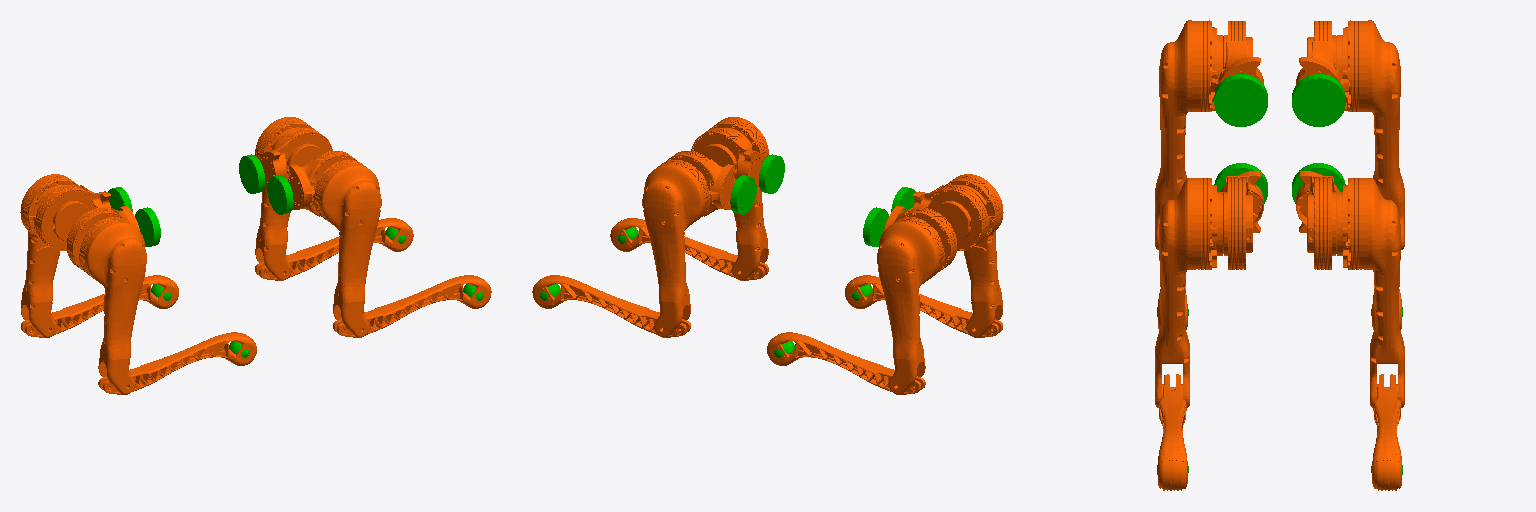
--- What the picture shows (computed from the rendered views, not written in the file) ---
The picture shows the robot from 3 angles, left to right: view 1: azimuth 30°, elevation 25°; view 2: azimuth 150°, elevation 25°; view 3: azimuth 270°, elevation 25°; orthographic projection.
Model b1_description with 36 links and 35 joints (12 revolute, 23 fixed), rooted at base, posed joints at zero except 4 at the middle of their limits (FR_calf_joint = -1.6, FL_calf_joint = -1.6, RR_calf_joint = -1.6, RL_calf_joint = -1.6).
Links seen in each view (by area): view 1: FR_thigh, RR_thigh, RL_thigh, FL_thigh, FR_calf, RR_calf, RL_hip, FL_hip, FL_calf, RL_calf, FR_hip, RR_hip (+3 smaller); view 2: FL_thigh, RL_thigh, RR_thigh, FR_thigh, FL_calf, RL_calf, RR_hip, FR_hip, FR_calf, RR_calf, FL_hip, RL_hip (+3 smaller); view 3: FR_thigh, FL_thigh, RL_thigh, RR_thigh, FR_hip, FL_hip, FR_calf, FL_calf, RR_hip_rotor, RL_hip_rotor, RR_hip, RL_hip (+2 smaller).
Boxes of the visible links, x1,y1,x2,y2 form: FR_thigh: (313, 160, 381, 337); RR_thigh: (79, 217, 146, 394); RL_thigh: (20, 174, 78, 337); FL_thigh: (255, 117, 314, 280); FR_calf: (333, 275, 491, 337); RR_calf: (98, 332, 256, 394); RL_hip: (35, 185, 110, 250); FL_hip: (260, 128, 332, 187); FL_calf: (255, 218, 413, 280); RL_calf: (21, 275, 178, 337); FR_hip: (288, 151, 356, 216); RR_hip: (67, 206, 139, 271); FL_thigh: (642, 160, 710, 337); RL_thigh: (877, 217, 944, 394); RR_thigh: (945, 174, 1003, 337); FR_thigh: (709, 117, 768, 280); FL_calf: (532, 275, 690, 337); RL_calf: (767, 332, 925, 394); RR_hip: (913, 185, 988, 250); FR_hip: (691, 128, 763, 187); FR_calf: (610, 218, 768, 280); RR_calf: (845, 275, 1002, 337); FL_hip: (667, 151, 735, 216); RL_hip: (884, 206, 956, 271); FR_thigh: (1155, 178, 1222, 407); FL_thigh: (1337, 178, 1404, 407); RL_thigh: (1337, 20, 1404, 249); RR_thigh: (1155, 20, 1222, 249); FR_hip: (1220, 171, 1263, 269); FL_hip: (1296, 171, 1339, 269); FR_calf: (1158, 374, 1187, 490); FL_calf: (1372, 374, 1401, 490); RR_hip_rotor: (1214, 74, 1267, 126); RL_hip_rotor: (1292, 74, 1345, 126); RR_hip: (1211, 21, 1263, 90); RL_hip: (1296, 21, 1348, 90).
Size in the robot's own frame: 1.17 by 0.4615 by 0.465 metres.
Meshes: 5 distinct files referenced, 12 mesh visuals loaded (4 binary STL); not drawn: 1 (reference not matched to a file when rendering).

The robot description file, URDF, robot "b1_description":
<?xml version="1.0" ?>
<!-- =================================================================================== -->
<!-- |    This document was autogenerated by xacro from robot.xacro                    | -->
<!-- |    EDITING THIS FILE BY HAND IS NOT RECOMMENDED                                 | -->
<!-- =================================================================================== -->
<robot name="b1_description">
  <material name="black">
    <color rgba="0.0 0.0 0.0 1.0"/>
  </material>
  <material name="blue">
    <color rgba="0.0 0.0 0.8 1.0"/>
  </material>
  <material name="green">
    <color rgba="0.0 0.8 0.0 1.0"/>
  </material>
  <material name="grey">
    <color rgba="0.2 0.2 0.2 1.0"/>
  </material>
  <material name="silver">
    <color rgba="0.9137254901960784 0.9137254901960784 0.8470588235294118 1.0"/>
  </material>
  <material name="orange">
    <color rgba="1.0 0.4235294117647059 0.0392156862745098 1.0"/>
  </material>
  <material name="brown">
    <color rgba="0.8705882352941177 0.8117647058823529 0.7647058823529411 1.0"/>
  </material>
  <material name="red">
    <color rgba="0.8 0.0 0.0 1.0"/>
  </material>
  <material name="white">
    <color rgba="1.0 1.0 1.0 1.0"/>
  </material>
  <!-- ros_control plugin -->
  <gazebo>
    <plugin filename="libgazebo_ros_control.so" name="gazebo_ros_control">
      <robotNamespace>/aliengo_gazebo</robotNamespace>
      <robotSimType>gazebo_ros_control/DefaultRobotHWSim</robotSimType>
    </plugin>
  </gazebo>
  <!-- Show the trajectory of trunk center. -->
  <gazebo>
    <plugin filename="libLinkPlot3DPlugin.so" name="3dplot">
      <frequency>10</frequency>
      <plot>
        <link>base</link>
        <pose>0 0 0 0 0 0</pose>
        <material>Gazebo/Yellow</material>
      </plot>
    </plugin>
  </gazebo>
  <!-- Show the trajectory of foot. You can add another trajectory about another foot. -->
  <!-- <gazebo>
        <plugin name="3dplot" filename="libLinkPlot3DPlugin.so">
            <frequency>100</frequency>
            <plot>
                <link>FL_foot</link>
                <pose>0 0 0 0 0 0</pose>
                <material>Gazebo/Green</material>
            </plot>
        </plugin>
    </gazebo> -->
  <gazebo>
    <plugin filename="libgazebo_ros_force.so" name="gazebo_ros_force">
      <bodyName>trunk</bodyName>
      <topicName>/apply_force/trunk</topicName>
    </plugin>
  </gazebo>
  <gazebo reference="imu_link">
    <gravity>true</gravity>
    <sensor name="imu_sensor" type="imu">
      <always_on>true</always_on>
      <update_rate>1000</update_rate>
      <visualize>true</visualize>
      <topic>__default_topic__</topic>
      <plugin filename="libgazebo_ros_imu_sensor.so" name="imu_plugin">
        <topicName>trunk_imu</topicName>
        <bodyName>imu_link</bodyName>
        <updateRateHZ>1000.0</updateRateHZ>
        <gaussianNoise>0.0</gaussianNoise>
        <xyzOffset>0 0 0</xyzOffset>
        <rpyOffset>0 0 0</rpyOffset>
        <frameName>imu_link</frameName>
      </plugin>
      <pose>0 0 0 0 0 0</pose>
    </sensor>
  </gazebo>
  <!-- Foot contacts. -->
  <gazebo reference="FR_calf">
    <sensor name="FR_foot_contact" type="contact">
      <update_rate>100</update_rate>
      <plugin filename="libunitreeFootContactPlugin.so" name="contactPlugin"/>
      <contact>
        <collision>FR_calf_fixed_joint_lump__FR_foot_collision_1</collision>
      </contact>
    </sensor>
  </gazebo>
  <gazebo reference="FL_calf">
    <sensor name="FL_foot_contact" type="contact">
      <update_rate>100</update_rate>
      <plugin filename="libunitreeFootContactPlugin.so" name="contactPlugin"/>
      <contact>
        <collision>FL_calf_fixed_joint_lump__FL_foot_collision_1</collision>
      </contact>
    </sensor>
  </gazebo>
  <gazebo reference="RR_calf">
    <sensor name="RR_foot_contact" type="contact">
      <update_rate>100</update_rate>
      <plugin filename="libunitreeFootContactPlugin.so" name="contactPlugin"/>
      <contact>
        <collision>RR_calf_fixed_joint_lump__RR_foot_collision_1</collision>
      </contact>
    </sensor>
  </gazebo>
  <gazebo reference="RL_calf">
    <sensor name="RL_foot_contact" type="contact">
      <update_rate>100</update_rate>
      <plugin filename="libunitreeFootContactPlugin.so" name="contactPlugin"/>
      <contact>
        <collision>RL_calf_fixed_joint_lump__RL_foot_collision_1</collision>
      </contact>
    </sensor>
  </gazebo>
  <!-- Visualization of Foot contacts. -->
  <gazebo reference="FR_foot">
    <visual>
      <plugin filename="libunitreeDrawForcePlugin.so" name="drawForcePlugin">
        <topicName>FR_foot_contact</topicName>
      </plugin>
    </visual>
  </gazebo>
  <gazebo reference="FL_foot">
    <visual>
      <plugin filename="libunitreeDrawForcePlugin.so" name="drawForcePlugin">
        <topicName>FL_foot_contact</topicName>
      </plugin>
    </visual>
  </gazebo>
  <gazebo reference="RR_foot">
    <visual>
      <plugin filename="libunitreeDrawForcePlugin.so" name="drawForcePlugin">
        <topicName>RR_foot_contact</topicName>
      </plugin>
    </visual>
  </gazebo>
  <gazebo reference="RL_foot">
    <visual>
      <plugin filename="libunitreeDrawForcePlugin.so" name="drawForcePlugin">
        <topicName>RL_foot_contact</topicName>
      </plugin>
    </visual>
  </gazebo>
  <gazebo reference="base">
    <material>Gazebo/Green</material>
    <turnGravityOff>false</turnGravityOff>
  </gazebo>
  <gazebo reference="trunk">
    <mu1>0.2</mu1>
    <mu2>0.2</mu2>
    <kp value="1000000.0"/>
    <kd value="1.0"/>
  </gazebo>
  <gazebo reference="stick_link">
    <mu1>0.2</mu1>
    <mu2>0.2</mu2>
    <material>Gazebo/White</material>
  </gazebo>
  <gazebo reference="imu_link">
    <mu1>0.2</mu1>
    <mu2>0.2</mu2>
    <material>Gazebo/Red</material>
  </gazebo>
  <!-- FL leg -->
  <gazebo reference="FL_hip">
    <mu1>0.2</mu1>
    <mu2>0.2</mu2>
    <material>Gazebo/DarkGrey</material>
  </gazebo>
  <gazebo reference="FL_thigh">
    <mu1>0.2</mu1>
    <mu2>0.2</mu2>
    <self_collide>1</self_collide>
    <material>Gazebo/DarkGrey</material>
    <kp value="1000000.0"/>
    <kd value="1.0"/>
  </gazebo>
  <gazebo reference="FL_calf">
    <mu1>0.2</mu1>
    <mu2>0.2</mu2>
    <self_collide>1</self_collide>
  </gazebo>
  <gazebo reference="FL_foot">
    <mu1>0.6</mu1>
    <mu2>0.6</mu2>
    <self_collide>1</self_collide>
    <material>Gazebo/DarkGrey</material>
    <kp value="1000000.0"/>
    <kd value="1.0"/>
  </gazebo>
  <!-- FR leg -->
  <gazebo reference="FR_hip">
    <mu1>0.2</mu1>
    <mu2>0.2</mu2>
    <material>Gazebo/DarkGrey</material>
  </gazebo>
  <gazebo reference="FR_thigh">
    <mu1>0.2</mu1>
    <mu2>0.2</mu2>
    <self_collide>1</self_collide>
    <material>Gazebo/DarkGrey</material>
    <kp value="1000000.0"/>
    <kd value="1.0"/>
  </gazebo>
  <gazebo reference="FR_calf">
    <mu1>0.2</mu1>
    <mu2>0.2</mu2>
    <self_collide>1</self_collide>
  </gazebo>
  <gazebo reference="FR_foot">
    <mu1>0.6</mu1>
    <mu2>0.6</mu2>
    <self_collide>1</self_collide>
    <material>Gazebo/DarkGrey</material>
    <kp value="1000000.0"/>
    <kd value="1.0"/>
  </gazebo>
  <!-- RL leg -->
  <gazebo reference="RL_hip">
    <mu1>0.2</mu1>
    <mu2>0.2</mu2>
    <material>Gazebo/DarkGrey</material>
  </gazebo>
  <gazebo reference="RL_thigh">
    <mu1>0.2</mu1>
    <mu2>0.2</mu2>
    <self_collide>1</self_collide>
    <material>Gazebo/DarkGrey</material>
    <kp value="1000000.0"/>
    <kd value="1.0"/>
  </gazebo>
  <gazebo reference="RL_calf">
    <mu1>0.2</mu1>
    <mu2>0.2</mu2>
    <self_collide>1</self_collide>
  </gazebo>
  <gazebo reference="RL_foot">
    <mu1>0.6</mu1>
    <mu2>0.6</mu2>
    <self_collide>1</self_collide>
    <material>Gazebo/DarkGrey</material>
    <kp value="1000000.0"/>
    <kd value="1.0"/>
  </gazebo>
  <!-- RR leg -->
  <gazebo reference="RR_hip">
    <mu1>0.2</mu1>
    <mu2>0.2</mu2>
    <material>Gazebo/DarkGrey</material>
  </gazebo>
  <gazebo reference="RR_thigh">
    <mu1>0.2</mu1>
    <mu2>0.2</mu2>
    <self_collide>1</self_collide>
    <material>Gazebo/DarkGrey</material>
    <kp value="1000000.0"/>
    <kd value="1.0"/>
  </gazebo>
  <gazebo reference="RR_calf">
    <mu1>0.2</mu1>
    <mu2>0.2</mu2>
    <self_collide>1</self_collide>
  </gazebo>
  <gazebo reference="RR_foot">
    <mu1>0.6</mu1>
    <mu2>0.6</mu2>
    <self_collide>1</self_collide>
    <material>Gazebo/DarkGrey</material>
    <kp value="1000000.0"/>
    <kd value="1.0"/>
  </gazebo>
  <!-- Rotor related joint and link is only for demonstrate location. -->
  <!-- Actually, the rotor will rotate and the joint is not fixed. Reduction ratio should be considered. -->
  <!-- Debug mode will hung up the robot, use "true" or "false" to switch it. -->
  <!-- <xacro:if value="$(arg DEBUG)">
        <link name="world"/>
        <joint name="base_static_joint" type="fixed">
            <origin rpy="0 0 0" xyz="0 0 0"/>
            <parent link="world"/>
            <child link="base"/>
        </joint>
    </xacro:if>  -->
  <link name="base">
    <visual>
      <origin rpy="0 0 0" xyz="0 0 0"/>
      <geometry>
        <box size="0.001 0.001 0.001"/>
      </geometry>
    </visual>
  </link>
  <joint name="floating_base" type="fixed">
    <origin rpy="0 0 0" xyz="0 0 0"/>
    <parent link="base"/>
    <child link="trunk"/>
  </joint>
  <link name="trunk">
    <visual>
      <origin rpy="0 0 0" xyz="0 0 0"/>
      <geometry>
        <mesh filename="package://B1/meshes/trunkb.stl" scale="1 1 1"/>
      </geometry>
      <material name="orange"/>
    </visual>
    <collision>
      <origin rpy="0 0 0" xyz="0 0 0"/>
      <geometry>
        <mesh filename="package://B1/meshes/trunkb.stl" scale="1 1 1"/>
      </geometry>
    </collision>
    <inertial>
      <origin rpy="0 0 0" xyz="0.008987 0.002243 0.003013"/>
      <mass value="29.45"/>
      <inertia ixx="0.183142146" ixy="-0.001379002" ixz="-0.027956055" iyy="0.756327752" iyz="0.000193774" izz="0.783777558"/>
    </inertial>
  </link>
  <joint name="imu_joint" type="fixed">
    <parent link="trunk"/>
    <child link="imu_link"/>
    <origin rpy="0 0 0" xyz="0 0 0"/>
  </joint>
  <link name="imu_link">
    <inertial>
      <mass value="0.001"/>
      <origin rpy="0 0 0" xyz="0 0 0"/>
      <inertia ixx="0.0001" ixy="0" ixz="0" iyy="0.000001" iyz="0" izz="0.0001"/>
    </inertial>
    <visual>
      <origin rpy="0 0 0" xyz="0 0 0"/>
      <geometry>
        <box size="0.001 0.001 0.001"/>
      </geometry>
      <material name="red"/>
    </visual>
    <collision>
      <origin rpy="0 0 0" xyz="0 0 0"/>
      <geometry>
        <box size=".001 .001 .001"/>
      </geometry>
    </collision>
  </link>

    <joint name="left_side_camera_joint" type="fixed">
	    <parent link="trunk"/>
	    <child link="left_side_camera_link"/>
	    <origin rpy="-0.331612 0 0" xyz="-0.1086 0.1371 -0.03077"/>
    </joint>

    <link name="left_side_camera_link">
        <inertial>
            <mass value="0.001"/>
            <origin rpy="0 0 0" xyz="0 0 0"/>
            <inertia ixx="0.0001" ixy="0" ixz="0" iyy="0.0001" iyz="0" izz="0.0001"/>
        </inertial>
    </link>

	    
    <joint name="right_side_camera_joint" type="fixed">
	    <parent link="trunk"/>
	    <child link="right_side_camera_link"/>
	    <origin rpy="0.331612 0 0" xyz="-0.10190 -0.1371 -0.03077"/>
    </joint>

    <link name="right_side_camera_link">
        <inertial>
            <mass value="0.001"/>
            <origin rpy="0 0 0" xyz="0 0 0"/>
            <inertia ixx="0.0001" ixy="0" ixz="0" iyy="0.0001" iyz="0" izz="0.0001"/>
        </inertial>
    </link>
-
    <joint name="head_camera_1_joint" type="fixed">
	    <parent link="trunk"/>
	    <child link="head_camera_1_link"/>
	    <origin rpy="0 0 0" xyz="0.48883 0 0.0255"/>
    </joint>

    <link name="head_camera_1_link">
        <inertial>
            <mass value="0.001"/>
            <origin rpy="0 0 0" xyz="0 0 0"/>
            <inertia ixx="0.0001" ixy="0" ixz="0" iyy="0.0001" iyz="0" izz="0.0001"/>
        </inertial>
    </link>

    <joint name="head_camera_2_joint" type="fixed">
	    <parent link="trunk"/>
	    <child link="head_camera_2_link"/>
	    <origin rpy="0 0 0" xyz="0.45430 0 -0.081"/>
    </joint>

    <link name="head_camera_2_link">
        <inertial>
            <mass value="0.001"/>
            <origin rpy="0 0 0" xyz="0 0 0"/>
            <inertia ixx="0.0001" ixy="0" ixz="0" iyy="0.0001" iyz="0" izz="0.0001"/>
        </inertial>
    </link>

    <joint name="tail_camera_joint" type="fixed">
	    <parent link="trunk"/>
	    <child link="tail_camera_link"/>
	    <origin rpy="0 0 0" xyz="-0.459 0 -0.081"/>
    </joint>

    <link name="tail_camera_link">
        <inertial>
            <mass value="0.001"/>
            <origin rpy="0 0 0" xyz="0 0 0"/>
            <inertia ixx="0.0001" ixy="0" ixz="0" iyy="0.0001" iyz="0" izz="0.0001"/>
        </inertial>
    </link>

  <joint name="FR_hip_joint" type="revolute">
    <origin rpy="0 0 0" xyz="0.3455 -0.072 0"/>
    <parent link="trunk"/>
    <child link="FR_hip"/>
    <axis xyz="1 0 0"/>
    <dynamics damping="0" friction="0"/>
    <limit effort="91.0035" lower="-0.75" upper="0.75" velocity="19.69"/>
  </joint>
  <joint name="FR_hip_rotor_joint" type="fixed">
    <origin rpy="0 0 0" xyz="0.1955 -0.072 0"/>
    <parent link="trunk"/>
    <child link="FR_hip_rotor"/>
  </joint>
  <link name="FR_hip">
    <visual>
      <origin rpy="3.141592653589793 0 0" xyz="0 0 0"/>
      <geometry>
        <mesh filename="package://B1/meshes/hipb.stl" scale="1 1 1"/>
      </geometry>
      <material name="orange"/>
    </visual>
    <collision>
      <origin rpy="3.141592653589793 0 0" xyz="0 0 0"/>
      <geometry>
        <mesh filename="package://B1/meshes/hipb.stl" scale="1 1 1"/>
      </geometry>
    </collision>
    <inertial>
      <origin rpy="0 0 0" xyz="-0.020298 -0.009758 0.000109"/>
      <mass value="2.15"/>
      <inertia ixx="0.00406608" ixy="0.000288071" ixz="-4.371e-06" iyy="0.008775259" iyz="-1.811e-06" izz="0.006060348"/>
    </inertial>
  </link>
  <link name="FR_hip_rotor">
    <visual>
      <origin rpy="0 1.5707963267948966 0" xyz="0 0 0"/>
      <geometry>
        <cylinder length="0.02" radius="0.05"/>
      </geometry>
      <material name="green"/>
    </visual>
    <collision>
      <origin rpy="0 1.5707963267948966 0" xyz="0 0 0"/>
      <geometry>
        <cylinder length="0.02" radius="0.05"/>
      </geometry>
    </collision>
    <inertial>
      <origin rpy="0 0 0" xyz="0.0 0.0 0.0"/>
      <mass value="0.199"/>
      <inertia ixx="0.00039249" ixy="0.0" ixz="0.0" iyy="0.000219397" iyz="0.0" izz="0.000219397"/>
    </inertial>
  </link>
  <joint name="FR_thigh_joint" type="revolute">
    <origin rpy="0 0 0" xyz="0 -0.12675 0"/>
    <parent link="FR_hip"/>
    <child link="FR_thigh"/>
    <axis xyz="0 1 0"/>
    <dynamics damping="0" friction="0"/>
    <limit effort="93.33" lower="-1.0" upper="3.5" velocity="23.32"/>
  </joint>
  <joint name="FR_thigh_rotor_joint" type="fixed">
    <origin rpy="0 0 0" xyz="0.0 -0.00935 0"/>
    <parent link="FR_hip"/>
    <child link="FR_thigh_rotor"/>
  </joint>
  <link name="FR_thigh">
    <visual>
      <origin rpy="0 0 0" xyz="0 0 0"/>
      <geometry>
        <mesh filename="package://B1/meshes/thigh_mirrorb.stl" scale="1 1 1"/>
      </geometry>
      <material name="orange"/>
    </visual>
    <collision>
      <origin rpy="0 0 0" xyz="0 0 0"/>
      <geometry>
        <mesh filename="package://B1/meshes/thigh_mirrorb.stl" scale="1 1 1"/>
      </geometry>
    </collision>
    <inertial>
      <origin rpy="0 0 0" xyz="-0.000235 0.028704 -0.054169"/>
      <mass value="4.3"/>
      <inertia ixx="0.044459086" ixy="-0.000128738" ixz="-0.002343913" iyy="0.046023457" iyz="-0.006032996" izz="0.008696078"/>
    </inertial>
  </link>
  <link name="FR_thigh_rotor">
    <visual>
      <origin rpy="1.5707963267948966 0 0" xyz="0 0 0"/>
      <geometry>
        <cylinder length="0.02" radius="0.05"/>
      </geometry>
      <material name="green"/>
    </visual>
    <collision>
      <origin rpy="1.5707963267948966 0 0" xyz="0 0 0"/>
      <geometry>
        <cylinder length="0.02" radius="0.05"/>
      </geometry>
    </collision>
    <inertial>
      <origin rpy="0 0 0" xyz="0.0 0.0 0.0"/>
      <mass value="0.266"/>
      <inertia ixx="0.000485657" ixy="0.0" ixz="0.0" iyy="0.00091885" iyz="0.0" izz="0.000485657"/>
    </inertial>
  </link>
  <joint name="FR_calf_joint" type="revolute">
    <origin rpy="0 0 0" xyz="0 0 -0.35"/>
    <parent link="FR_thigh"/>
    <child link="FR_calf"/>
    <axis xyz="0 1 0"/>
    <dynamics damping="0" friction="0"/>
    <limit effort="140" lower="-2.6" upper="-0.6" velocity="15.55"/>
  </joint>
  <joint name="FR_calf_rotor_joint" type="fixed">
    <origin rpy="0 0 0" xyz="0.0 0.0519 0"/>
    <parent link="FR_thigh"/>
    <child link="FR_calf_rotor"/>
  </joint>
  <link name="FR_calf">
    <visual>
      <origin rpy="0 0 0" xyz="0 0 0"/>
      <geometry>
        <mesh filename="package://B1/meshes/calfb.stl" scale="1 1 1"/>
      </geometry>
      <material name="orange"/>
    </visual>
    <collision>
      <origin rpy="0 0 0" xyz="0 0 0"/>
      <geometry>
        <mesh filename="package://B1/meshes/calfb.stl" scale="1 1 1"/>
      </geometry>
    </collision>
    <inertial>
      <origin rpy="0 0 0" xyz="0.005237 0.0 -0.202805"/>
      <mass value="1.05"/>
      <inertia ixx="0.015011003" ixy="5.2e-08" ixz="0.000250042" iyy="0.015159462" iyz="4.61e-07" izz="0.000375749"/>
    </inertial>
  </link>
  <link name="FR_calf_rotor">
    <visual>
      <origin rpy="1.5707963267948966 0 0" xyz="0 0 0"/>
      <geometry>
        <cylinder length="0.02" radius="0.05"/>
      </geometry>
      <material name="green"/>
    </visual>
    <collision>
      <origin rpy="1.5707963267948966 0 0" xyz="0 0 0"/>
      <geometry>
        <cylinder length="0.02" radius="0.05"/>
      </geometry>
    </collision>
    <inertial>
      <origin rpy="0 0 0" xyz="0.0 0.0 0.0"/>
      <mass value="0.266"/>
      <inertia ixx="0.000485657" ixy="0.0" ixz="0.0" iyy="0.00091885" iyz="0.0" izz="0.000485657"/>
    </inertial>
  </link>
  <joint name="FR_foot_fixed" type="fixed">
    <origin rpy="0 0 0" xyz="0 0 -0.35"/>
    <parent link="FR_calf"/>
    <child link="FR_foot"/>
  </joint>
  <link name="FR_foot">
    <visual>
      <origin rpy="0 0 0" xyz="0 0 0"/>
      <geometry>
        <sphere radius="0.03"/>
      </geometry>
      <material name="green"/>
    </visual>
    <collision>
      <origin rpy="0 0 0" xyz="0 0 0"/>
      <geometry>
        <sphere radius="0.04"/>
      </geometry>
    </collision>
    <inertial>
      <mass value="0.05"/>
      <inertia ixx="3.2000000000000005e-05" ixy="0.0" ixz="0.0" iyy="3.2000000000000005e-05" iyz="0.0" izz="3.2000000000000005e-05"/>
    </inertial>
  </link>
  <transmission name="FR_hip_tran">
    <type>transmission_interface/SimpleTransmission</type>
    <joint name="FR_hip_joint">
      <hardwareInterface>hardware_interface/EffortJointInterface</hardwareInterface>
    </joint>
    <actuator name="FR_hip_motor">
      <hardwareInterface>hardware_interface/EffortJointInterface</hardwareInterface>
      <mechanicalReduction>1</mechanicalReduction>
    </actuator>
  </transmission>
  <transmission name="FR_thigh_tran">
    <type>transmission_interface/SimpleTransmission</type>
    <joint name="FR_thigh_joint">
      <hardwareInterface>hardware_interface/EffortJointInterface</hardwareInterface>
    </joint>
    <actuator name="FR_thigh_motor">
      <hardwareInterface>hardware_interface/EffortJointInterface</hardwareInterface>
      <mechanicalReduction>1</mechanicalReduction>
    </actuator>
  </transmission>
  <transmission name="FR_calf_tran">
    <type>transmission_interface/SimpleTransmission</type>
    <joint name="FR_calf_joint">
      <hardwareInterface>hardware_interface/EffortJointInterface</hardwareInterface>
    </joint>
    <actuator name="FR_calf_motor">
      <hardwareInterface>hardware_interface/EffortJointInterface</hardwareInterface>
      <mechanicalReduction>1</mechanicalReduction>
    </actuator>
  </transmission>
  <joint name="FL_hip_joint" type="revolute">
    <origin rpy="0 0 0" xyz="0.3455 0.072 0"/>
    <parent link="trunk"/>
    <child link="FL_hip"/>
    <axis xyz="1 0 0"/>
    <dynamics damping="0" friction="0"/>
    <limit effort="91.0035" lower="-0.75" upper="0.75" velocity="19.69"/>
  </joint>
  <joint name="FL_hip_rotor_joint" type="fixed">
    <origin rpy="0 0 0" xyz="0.1955 0.072 0"/>
    <parent link="trunk"/>
    <child link="FL_hip_rotor"/>
  </joint>
  <link name="FL_hip">
    <visual>
      <origin rpy="0 0 0" xyz="0 0 0"/>
      <geometry>
        <mesh filename="package://B1/meshes/hipb.stl" scale="1 1 1"/>
      </geometry>
      <material name="orange"/>
    </visual>
    <collision>
      <origin rpy="0 0 0" xyz="0 0 0"/>
      <geometry>
        <mesh filename="package://B1/meshes/hipb.stl" scale="1 1 1"/>
      </geometry>
    </collision>
    <inertial>
      <origin rpy="0 0 0" xyz="-0.020298 0.009758 0.000109"/>
      <mass value="2.15"/>
      <inertia ixx="0.00406608" ixy="-0.000288071" ixz="-4.371e-06" iyy="0.008775259" iyz="1.811e-06" izz="0.006060348"/>
    </inertial>
  </link>
  <link name="FL_hip_rotor">
    <visual>
      <origin rpy="0 1.5707963267948966 0" xyz="0 0 0"/>
      <geometry>
        <cylinder length="0.02" radius="0.05"/>
      </geometry>
      <material name="green"/>
    </visual>
    <collision>
      <origin rpy="0 1.5707963267948966 0" xyz="0 0 0"/>
      <geometry>
        <cylinder length="0.02" radius="0.05"/>
      </geometry>
    </collision>
    <inertial>
      <origin rpy="0 0 0" xyz="0.0 0.0 0.0"/>
      <mass value="0.199"/>
      <inertia ixx="0.00039249" ixy="0.0" ixz="0.0" iyy="0.000219397" iyz="0.0" izz="0.000219397"/>
    </inertial>
  </link>
  <joint name="FL_thigh_joint" type="revolute">
    <origin rpy="0 0 0" xyz="0 0.12675 0"/>
    <parent link="FL_hip"/>
    <child link="FL_thigh"/>
    <axis xyz="0 1 0"/>
    <dynamics damping="0" friction="0"/>
    <limit effort="93.33" lower="-1.0" upper="3.5" velocity="23.32"/>
  </joint>
  <joint name="FL_thigh_rotor_joint" type="fixed">
    <origin rpy="0 0 0" xyz="0.0 0.00935 0"/>
    <parent link="FL_hip"/>
    <child link="FL_thigh_rotor"/>
  </joint>
  <link name="FL_thigh">
    <visual>
      <origin rpy="0 0 0" xyz="0 0 0"/>
      <geometry>
        <mesh filename="package://B1/meshes/thighb.stl" scale="1 1 1"/>
      </geometry>
      <material name="orange"/>
    </visual>
    <collision>
      <origin rpy="0 0 0" xyz="0 0 0"/>
      <geometry>
        <mesh filename="package://B1/meshes/thighb.stl" scale="1 1 1"/>
      </geometry>
    </collision>
    <inertial>
      <origin rpy="0 0 0" xyz="-0.000235 -0.028704 -0.054169"/>
      <mass value="4.3"/>
      <inertia ixx="0.044459086" ixy="0.000128738" ixz="-0.002343913" iyy="0.046023457" iyz="0.006032996" izz="0.008696078"/>
    </inertial>
  </link>
  <link name="FL_thigh_rotor">
    <visual>
      <origin rpy="1.5707963267948966 0 0" xyz="0 0 0"/>
      <geometry>
        <cylinder length="0.02" radius="0.05"/>
      </geometry>
      <material name="green"/>
    </visual>
    <collision>
      <origin rpy="1.5707963267948966 0 0" xyz="0 0 0"/>
      <geometry>
        <cylinder length="0.02" radius="0.05"/>
      </geometry>
    </collision>
    <inertial>
      <origin rpy="0 0 0" xyz="0.0 0.0 0.0"/>
      <mass value="0.266"/>
      <inertia ixx="0.000485657" ixy="0.0" ixz="0.0" iyy="0.00091885" iyz="0.0" izz="0.000485657"/>
    </inertial>
  </link>
  <joint name="FL_calf_joint" type="revolute">
    <origin rpy="0 0 0" xyz="0 0 -0.35"/>
    <parent link="FL_thigh"/>
    <child link="FL_calf"/>
    <axis xyz="0 1 0"/>
    <dynamics damping="0" friction="0"/>
    <limit effort="140" lower="-2.6" upper="-0.6" velocity="15.55"/>
  </joint>
  <joint name="FL_calf_rotor_joint" type="fixed">
    <origin rpy="0 0 0" xyz="0.0 -0.0519 0"/>
    <parent link="FL_thigh"/>
    <child link="FL_calf_rotor"/>
  </joint>
  <link name="FL_calf">
    <visual>
      <origin rpy="0 0 0" xyz="0 0 0"/>
      <geometry>
        <mesh filename="package://B1/meshes/calfb.stl" scale="1 1 1"/>
      </geometry>
      <material name="orange"/>
    </visual>
    <collision>
      <origin rpy="0 0 0" xyz="0 0 0"/>
      <geometry>
        <mesh filename="package://B1/meshes/calfb.stl" scale="1 1 1"/>
      </geometry>
    </collision>
    <inertial>
      <origin rpy="0 0 0" xyz="0.005237 0.0 -0.202805"/>
      <mass value="1.05"/>
      <inertia ixx="0.015011003" ixy="5.2e-08" ixz="0.000250042" iyy="0.015159462" iyz="4.61e-07" izz="0.000375749"/>
    </inertial>
  </link>
  <link name="FL_calf_rotor">
    <visual>
      <origin rpy="1.5707963267948966 0 0" xyz="0 0 0"/>
      <geometry>
        <cylinder length="0.02" radius="0.05"/>
      </geometry>
      <material name="green"/>
    </visual>
    <collision>
      <origin rpy="1.5707963267948966 0 0" xyz="0 0 0"/>
      <geometry>
        <cylinder length="0.02" radius="0.05"/>
      </geometry>
    </collision>
    <inertial>
      <origin rpy="0 0 0" xyz="0.0 0.0 0.0"/>
      <mass value="0.266"/>
      <inertia ixx="0.000485657" ixy="0.0" ixz="0.0" iyy="0.00091885" iyz="0.0" izz="0.000485657"/>
    </inertial>
  </link>
  <joint name="FL_foot_fixed" type="fixed">
    <origin rpy="0 0 0" xyz="0 0 -0.35"/>
    <parent link="FL_calf"/>
    <child link="FL_foot"/>
  </joint>
  <link name="FL_foot">
    <visual>
      <origin rpy="0 0 0" xyz="0 0 0"/>
      <geometry>
        <sphere radius="0.03"/>
      </geometry>
      <material name="green"/>
    </visual>
    <collision>
      <origin rpy="0 0 0" xyz="0 0 0"/>
      <geometry>
        <sphere radius="0.04"/>
      </geometry>
    </collision>
    <inertial>
      <mass value="0.05"/>
      <inertia ixx="3.2000000000000005e-05" ixy="0.0" ixz="0.0" iyy="3.2000000000000005e-05" iyz="0.0" izz="3.2000000000000005e-05"/>
    </inertial>
  </link>
  <transmission name="FL_hip_tran">
    <type>transmission_interface/SimpleTransmission</type>
    <joint name="FL_hip_joint">
      <hardwareInterface>hardware_interface/EffortJointInterface</hardwareInterface>
    </joint>
    <actuator name="FL_hip_motor">
      <hardwareInterface>hardware_interface/EffortJointInterface</hardwareInterface>
      <mechanicalReduction>1</mechanicalReduction>
    </actuator>
  </transmission>
  <transmission name="FL_thigh_tran">
    <type>transmission_interface/SimpleTransmission</type>
    <joint name="FL_thigh_joint">
      <hardwareInterface>hardware_interface/EffortJointInterface</hardwareInterface>
    </joint>
    <actuator name="FL_thigh_motor">
      <hardwareInterface>hardware_interface/EffortJointInterface</hardwareInterface>
      <mechanicalReduction>1</mechanicalReduction>
    </actuator>
  </transmission>
  <transmission name="FL_calf_tran">
    <type>transmission_interface/SimpleTransmission</type>
    <joint name="FL_calf_joint">
      <hardwareInterface>hardware_interface/EffortJointInterface</hardwareInterface>
    </joint>
    <actuator name="FL_calf_motor">
      <hardwareInterface>hardware_interface/EffortJointInterface</hardwareInterface>
      <mechanicalReduction>1</mechanicalReduction>
    </actuator>
  </transmission>
  <joint name="RR_hip_joint" type="revolute">
    <origin rpy="0 0 0" xyz="-0.3455 -0.072 0"/>
    <parent link="trunk"/>
    <child link="RR_hip"/>
    <axis xyz="1 0 0"/>
    <dynamics damping="0" friction="0"/>
    <limit effort="91.0035" lower="-0.75" upper="0.75" velocity="19.69"/>
  </joint>
  <joint name="RR_hip_rotor_joint" type="fixed">
    <origin rpy="0 0 0" xyz="-0.1955 -0.072 0"/>
    <parent link="trunk"/>
    <child link="RR_hip_rotor"/>
  </joint>
  <link name="RR_hip">
    <visual>
      <origin rpy="3.141592653589793 3.141592653589793 0" xyz="0 0 0"/>
      <geometry>
        <mesh filename="package://B1/meshes/hipb.stl" scale="1 1 1"/>
      </geometry>
      <material name="orange"/>
    </visual>
    <collision>
      <origin rpy="3.141592653589793 3.141592653589793 0" xyz="0 0 0"/>
      <geometry>
        <mesh filename="package://B1/meshes/hipb.stl" scale="1 1 1"/>
      </geometry>
    </collision>
    <inertial>
      <origin rpy="0 0 0" xyz="0.020298 -0.009758 0.000109"/>
      <mass value="2.15"/>
      <inertia ixx="0.00406608" ixy="-0.000288071" ixz="4.371e-06" iyy="0.008775259" iyz="-1.811e-06" izz="0.006060348"/>
    </inertial>
  </link>
  <link name="RR_hip_rotor">
    <visual>
      <origin rpy="0 1.5707963267948966 0" xyz="0 0 0"/>
      <geometry>
        <cylinder length="0.02" radius="0.05"/>
      </geometry>
      <material name="green"/>
    </visual>
    <collision>
      <origin rpy="0 1.5707963267948966 0" xyz="0 0 0"/>
      <geometry>
        <cylinder length="0.02" radius="0.05"/>
      </geometry>
    </collision>
    <inertial>
      <origin rpy="0 0 0" xyz="0.0 0.0 0.0"/>
      <mass value="0.199"/>
      <inertia ixx="0.00039249" ixy="0.0" ixz="0.0" iyy="0.000219397" iyz="0.0" izz="0.000219397"/>
    </inertial>
  </link>
  <joint name="RR_thigh_joint" type="revolute">
    <origin rpy="0 0 0" xyz="0 -0.12675 0"/>
    <parent link="RR_hip"/>
    <child link="RR_thigh"/>
    <axis xyz="0 1 0"/>
    <dynamics damping="0" friction="0"/>
    <limit effort="93.33" lower="-1.0" upper="3.5" velocity="23.32"/>
  </joint>
  <joint name="RR_thigh_rotor_joint" type="fixed">
    <origin rpy="0 0 0" xyz="0.0 -0.00935 0"/>
    <parent link="RR_hip"/>
    <child link="RR_thigh_rotor"/>
  </joint>
  <link name="RR_thigh">
    <visual>
      <origin rpy="0 0 0" xyz="0 0 0"/>
      <geometry>
        <mesh filename="package://B1/meshes/thigh_mirrorb.stl" scale="1 1 1"/>
      </geometry>
      <material name="orange"/>
    </visual>
    <collision>
      <origin rpy="0 0 0" xyz="0 0 0"/>
      <geometry>
        <mesh filename="package://B1/meshes/thigh_mirrorb.stl" scale="1 1 1"/>
      </geometry>
    </collision>
    <inertial>
      <origin rpy="0 0 0" xyz="-0.000235 0.028704 -0.054169"/>
      <mass value="4.3"/>
      <inertia ixx="0.044459086" ixy="-0.000128738" ixz="-0.002343913" iyy="0.046023457" iyz="-0.006032996" izz="0.008696078"/>
    </inertial>
  </link>
  <link name="RR_thigh_rotor">
    <visual>
      <origin rpy="1.5707963267948966 0 0" xyz="0 0 0"/>
      <geometry>
        <cylinder length="0.02" radius="0.05"/>
      </geometry>
      <material name="green"/>
    </visual>
    <collision>
      <origin rpy="1.5707963267948966 0 0" xyz="0 0 0"/>
      <geometry>
        <cylinder length="0.02" radius="0.05"/>
      </geometry>
    </collision>
    <inertial>
      <origin rpy="0 0 0" xyz="0.0 0.0 0.0"/>
      <mass value="0.266"/>
      <inertia ixx="0.000485657" ixy="0.0" ixz="0.0" iyy="0.00091885" iyz="0.0" izz="0.000485657"/>
    </inertial>
  </link>
  <joint name="RR_calf_joint" type="revolute">
    <origin rpy="0 0 0" xyz="0 0 -0.35"/>
    <parent link="RR_thigh"/>
    <child link="RR_calf"/>
    <axis xyz="0 1 0"/>
    <dynamics damping="0" friction="0"/>
    <limit effort="140" lower="-2.6" upper="-0.6" velocity="15.55"/>
  </joint>
  <joint name="RR_calf_rotor_joint" type="fixed">
    <origin rpy="0 0 0" xyz="0.0 0.0519 0"/>
    <parent link="RR_thigh"/>
    <child link="RR_calf_rotor"/>
  </joint>
  <link name="RR_calf">
    <visual>
      <origin rpy="0 0 0" xyz="0 0 0"/>
      <geometry>
        <mesh filename="package://B1/meshes/calfb.stl" scale="1 1 1"/>
      </geometry>
      <material name="orange"/>
    </visual>
    <collision>
      <origin rpy="0 0 0" xyz="0 0 0"/>
      <geometry>
        <mesh filename="package://B1/meshes/calfb.stl" scale="1 1 1"/>
      </geometry>
    </collision>
    <inertial>
      <origin rpy="0 0 0" xyz="0.005237 0.0 -0.202805"/>
      <mass value="1.05"/>
      <inertia ixx="0.015011003" ixy="5.2e-08" ixz="0.000250042" iyy="0.015159462" iyz="4.61e-07" izz="0.000375749"/>
    </inertial>
  </link>
  <link name="RR_calf_rotor">
    <visual>
      <origin rpy="1.5707963267948966 0 0" xyz="0 0 0"/>
      <geometry>
        <cylinder length="0.02" radius="0.05"/>
      </geometry>
      <material name="green"/>
    </visual>
    <collision>
      <origin rpy="1.5707963267948966 0 0" xyz="0 0 0"/>
      <geometry>
        <cylinder length="0.02" radius="0.05"/>
      </geometry>
    </collision>
    <inertial>
      <origin rpy="0 0 0" xyz="0.0 0.0 0.0"/>
      <mass value="0.266"/>
      <inertia ixx="0.000485657" ixy="0.0" ixz="0.0" iyy="0.00091885" iyz="0.0" izz="0.000485657"/>
    </inertial>
  </link>
  <joint name="RR_foot_fixed" type="fixed">
    <origin rpy="0 0 0" xyz="0 0 -0.35"/>
    <parent link="RR_calf"/>
    <child link="RR_foot"/>
  </joint>
  <link name="RR_foot">
    <visual>
      <origin rpy="0 0 0" xyz="0 0 0"/>
      <geometry>
        <sphere radius="0.03"/>
      </geometry>
      <material name="green"/>
    </visual>
    <collision>
      <origin rpy="0 0 0" xyz="0 0 0"/>
      <geometry>
        <sphere radius="0.04"/>
      </geometry>
    </collision>
    <inertial>
      <mass value="0.05"/>
      <inertia ixx="3.2000000000000005e-05" ixy="0.0" ixz="0.0" iyy="3.2000000000000005e-05" iyz="0.0" izz="3.2000000000000005e-05"/>
    </inertial>
  </link>
  <transmission name="RR_hip_tran">
    <type>transmission_interface/SimpleTransmission</type>
    <joint name="RR_hip_joint">
      <hardwareInterface>hardware_interface/EffortJointInterface</hardwareInterface>
    </joint>
    <actuator name="RR_hip_motor">
      <hardwareInterface>hardware_interface/EffortJointInterface</hardwareInterface>
      <mechanicalReduction>1</mechanicalReduction>
    </actuator>
  </transmission>
  <transmission name="RR_thigh_tran">
    <type>transmission_interface/SimpleTransmission</type>
    <joint name="RR_thigh_joint">
      <hardwareInterface>hardware_interface/EffortJointInterface</hardwareInterface>
    </joint>
    <actuator name="RR_thigh_motor">
      <hardwareInterface>hardware_interface/EffortJointInterface</hardwareInterface>
      <mechanicalReduction>1</mechanicalReduction>
    </actuator>
  </transmission>
  <transmission name="RR_calf_tran">
    <type>transmission_interface/SimpleTransmission</type>
    <joint name="RR_calf_joint">
      <hardwareInterface>hardware_interface/EffortJointInterface</hardwareInterface>
    </joint>
    <actuator name="RR_calf_motor">
      <hardwareInterface>hardware_interface/EffortJointInterface</hardwareInterface>
      <mechanicalReduction>1</mechanicalReduction>
    </actuator>
  </transmission>
  <joint name="RL_hip_joint" type="revolute">
    <origin rpy="0 0 0" xyz="-0.3455 0.072 0"/>
    <parent link="trunk"/>
    <child link="RL_hip"/>
    <axis xyz="1 0 0"/>
    <dynamics damping="0" friction="0"/>
    <limit effort="91.0035" lower="-0.75" upper="0.75" velocity="19.69"/>
  </joint>
  <joint name="RL_hip_rotor_joint" type="fixed">
    <origin rpy="0 0 0" xyz="-0.1955 0.072 0"/>
    <parent link="trunk"/>
    <child link="RL_hip_rotor"/>
  </joint>
  <link name="RL_hip">
    <visual>
      <origin rpy="0 3.141592653589793 0" xyz="0 0 0"/>
      <geometry>
        <mesh filename="package://B1/meshes/hipb.stl" scale="1 1 1"/>
      </geometry>
      <material name="orange"/>
    </visual>
    <collision>
      <origin rpy="0 3.141592653589793 0" xyz="0 0 0"/>
      <geometry>
        <mesh filename="package://B1/meshes/hipb.stl" scale="1 1 1"/>
      </geometry>
    </collision>
    <inertial>
      <origin rpy="0 0 0" xyz="0.020298 0.009758 0.000109"/>
      <mass value="2.15"/>
      <inertia ixx="0.00406608" ixy="0.000288071" ixz="4.371e-06" iyy="0.008775259" iyz="1.811e-06" izz="0.006060348"/>
    </inertial>
  </link>
  <link name="RL_hip_rotor">
    <visual>
      <origin rpy="0 1.5707963267948966 0" xyz="0 0 0"/>
      <geometry>
        <cylinder length="0.02" radius="0.05"/>
      </geometry>
      <material name="green"/>
    </visual>
    <collision>
      <origin rpy="0 1.5707963267948966 0" xyz="0 0 0"/>
      <geometry>
        <cylinder length="0.02" radius="0.05"/>
      </geometry>
    </collision>
    <inertial>
      <origin rpy="0 0 0" xyz="0.0 0.0 0.0"/>
      <mass value="0.199"/>
      <inertia ixx="0.00039249" ixy="0.0" ixz="0.0" iyy="0.000219397" iyz="0.0" izz="0.000219397"/>
    </inertial>
  </link>
  <joint name="RL_thigh_joint" type="revolute">
    <origin rpy="0 0 0" xyz="0 0.12675 0"/>
    <parent link="RL_hip"/>
    <child link="RL_thigh"/>
    <axis xyz="0 1 0"/>
    <dynamics damping="0" friction="0"/>
    <limit effort="93.33" lower="-1.0" upper="3.5" velocity="23.32"/>
  </joint>
  <joint name="RL_thigh_rotor_joint" type="fixed">
    <origin rpy="0 0 0" xyz="0.0 0.00935 0"/>
    <parent link="RL_hip"/>
    <child link="RL_thigh_rotor"/>
  </joint>
  <link name="RL_thigh">
    <visual>
      <origin rpy="0 0 0" xyz="0 0 0"/>
      <geometry>
        <mesh filename="package://B1/meshes/thighb.stl" scale="1 1 1"/>
      </geometry>
      <material name="orange"/>
    </visual>
    <collision>
      <origin rpy="0 0 0" xyz="0 0 0"/>
      <geometry>
        <mesh filename="package://B1/meshes/thighb.stl" scale="1 1 1"/>
      </geometry>
    </collision>
    <inertial>
      <origin rpy="0 0 0" xyz="-0.000235 -0.028704 -0.054169"/>
      <mass value="4.3"/>
      <inertia ixx="0.044459086" ixy="0.000128738" ixz="-0.002343913" iyy="0.046023457" iyz="0.006032996" izz="0.008696078"/>
    </inertial>
  </link>
  <link name="RL_thigh_rotor">
    <visual>
      <origin rpy="1.5707963267948966 0 0" xyz="0 0 0"/>
      <geometry>
        <cylinder length="0.02" radius="0.05"/>
      </geometry>
      <material name="green"/>
    </visual>
    <collision>
      <origin rpy="1.5707963267948966 0 0" xyz="0 0 0"/>
      <geometry>
        <cylinder length="0.02" radius="0.05"/>
      </geometry>
    </collision>
    <inertial>
      <origin rpy="0 0 0" xyz="0.0 0.0 0.0"/>
      <mass value="0.266"/>
      <inertia ixx="0.000485657" ixy="0.0" ixz="0.0" iyy="0.00091885" iyz="0.0" izz="0.000485657"/>
    </inertial>
  </link>
  <joint name="RL_calf_joint" type="revolute">
    <origin rpy="0 0 0" xyz="0 0 -0.35"/>
    <parent link="RL_thigh"/>
    <child link="RL_calf"/>
    <axis xyz="0 1 0"/>
    <dynamics damping="0" friction="0"/>
    <limit effort="140" lower="-2.6" upper="-0.6" velocity="15.55"/>
  </joint>
  <joint name="RL_calf_rotor_joint" type="fixed">
    <origin rpy="0 0 0" xyz="0.0 -0.0519 0"/>
    <parent link="RL_thigh"/>
    <child link="RL_calf_rotor"/>
  </joint>
  <link name="RL_calf">
    <visual>
      <origin rpy="0 0 0" xyz="0 0 0"/>
      <geometry>
        <mesh filename="package://B1/meshes/calfb.stl" scale="1 1 1"/>
      </geometry>
      <material name="orange"/>
    </visual>
    <collision>
      <origin rpy="0 0 0" xyz="0 0 0"/>
      <geometry>
        <mesh filename="package://B1/meshes/calfb.stl" scale="1 1 1"/>
      </geometry>
    </collision>
    <inertial>
      <origin rpy="0 0 0" xyz="0.005237 0.0 -0.202805"/>
      <mass value="1.05"/>
      <inertia ixx="0.015011003" ixy="5.2e-08" ixz="0.000250042" iyy="0.015159462" iyz="4.61e-07" izz="0.000375749"/>
    </inertial>
  </link>
  <link name="RL_calf_rotor">
    <visual>
      <origin rpy="1.5707963267948966 0 0" xyz="0 0 0"/>
      <geometry>
        <cylinder length="0.02" radius="0.05"/>
      </geometry>
      <material name="green"/>
    </visual>
    <collision>
      <origin rpy="1.5707963267948966 0 0" xyz="0 0 0"/>
      <geometry>
        <cylinder length="0.02" radius="0.05"/>
      </geometry>
    </collision>
    <inertial>
      <origin rpy="0 0 0" xyz="0.0 0.0 0.0"/>
      <mass value="0.266"/>
      <inertia ixx="0.000485657" ixy="0.0" ixz="0.0" iyy="0.00091885" iyz="0.0" izz="0.000485657"/>
    </inertial>
  </link>
  <joint name="RL_foot_fixed" type="fixed">
    <origin rpy="0 0 0" xyz="0 0 -0.35"/>
    <parent link="RL_calf"/>
    <child link="RL_foot"/>
  </joint>
  <link name="RL_foot">
    <visual>
      <origin rpy="0 0 0" xyz="0 0 0"/>
      <geometry>
        <sphere radius="0.03"/>
      </geometry>
      <material name="green"/>
    </visual>
    <collision>
      <origin rpy="0 0 0" xyz="0 0 0"/>
      <geometry>
        <sphere radius="0.04"/>
      </geometry>
    </collision>
    <inertial>
      <mass value="0.05"/>
      <inertia ixx="3.2000000000000005e-05" ixy="0.0" ixz="0.0" iyy="3.2000000000000005e-05" iyz="0.0" izz="3.2000000000000005e-05"/>
    </inertial>
  </link>
  <transmission name="RL_hip_tran">
    <type>transmission_interface/SimpleTransmission</type>
    <joint name="RL_hip_joint">
      <hardwareInterface>hardware_interface/EffortJointInterface</hardwareInterface>
    </joint>
    <actuator name="RL_hip_motor">
      <hardwareInterface>hardware_interface/EffortJointInterface</hardwareInterface>
      <mechanicalReduction>1</mechanicalReduction>
    </actuator>
  </transmission>
  <transmission name="RL_thigh_tran">
    <type>transmission_interface/SimpleTransmission</type>
    <joint name="RL_thigh_joint">
      <hardwareInterface>hardware_interface/EffortJointInterface</hardwareInterface>
    </joint>
    <actuator name="RL_thigh_motor">
      <hardwareInterface>hardware_interface/EffortJointInterface</hardwareInterface>
      <mechanicalReduction>1</mechanicalReduction>
    </actuator>
  </transmission>
  <transmission name="RL_calf_tran">
    <type>transmission_interface/SimpleTransmission</type>
    <joint name="RL_calf_joint">
      <hardwareInterface>hardware_interface/EffortJointInterface</hardwareInterface>
    </joint>
    <actuator name="RL_calf_motor">
      <hardwareInterface>hardware_interface/EffortJointInterface</hardwareInterface>
      <mechanicalReduction>1</mechanicalReduction>
    </actuator>
  </transmission>
  <!-- <xacro:stairs stairs="15" xpos="0" ypos="2.0" zpos="0" /> -->
</robot>
